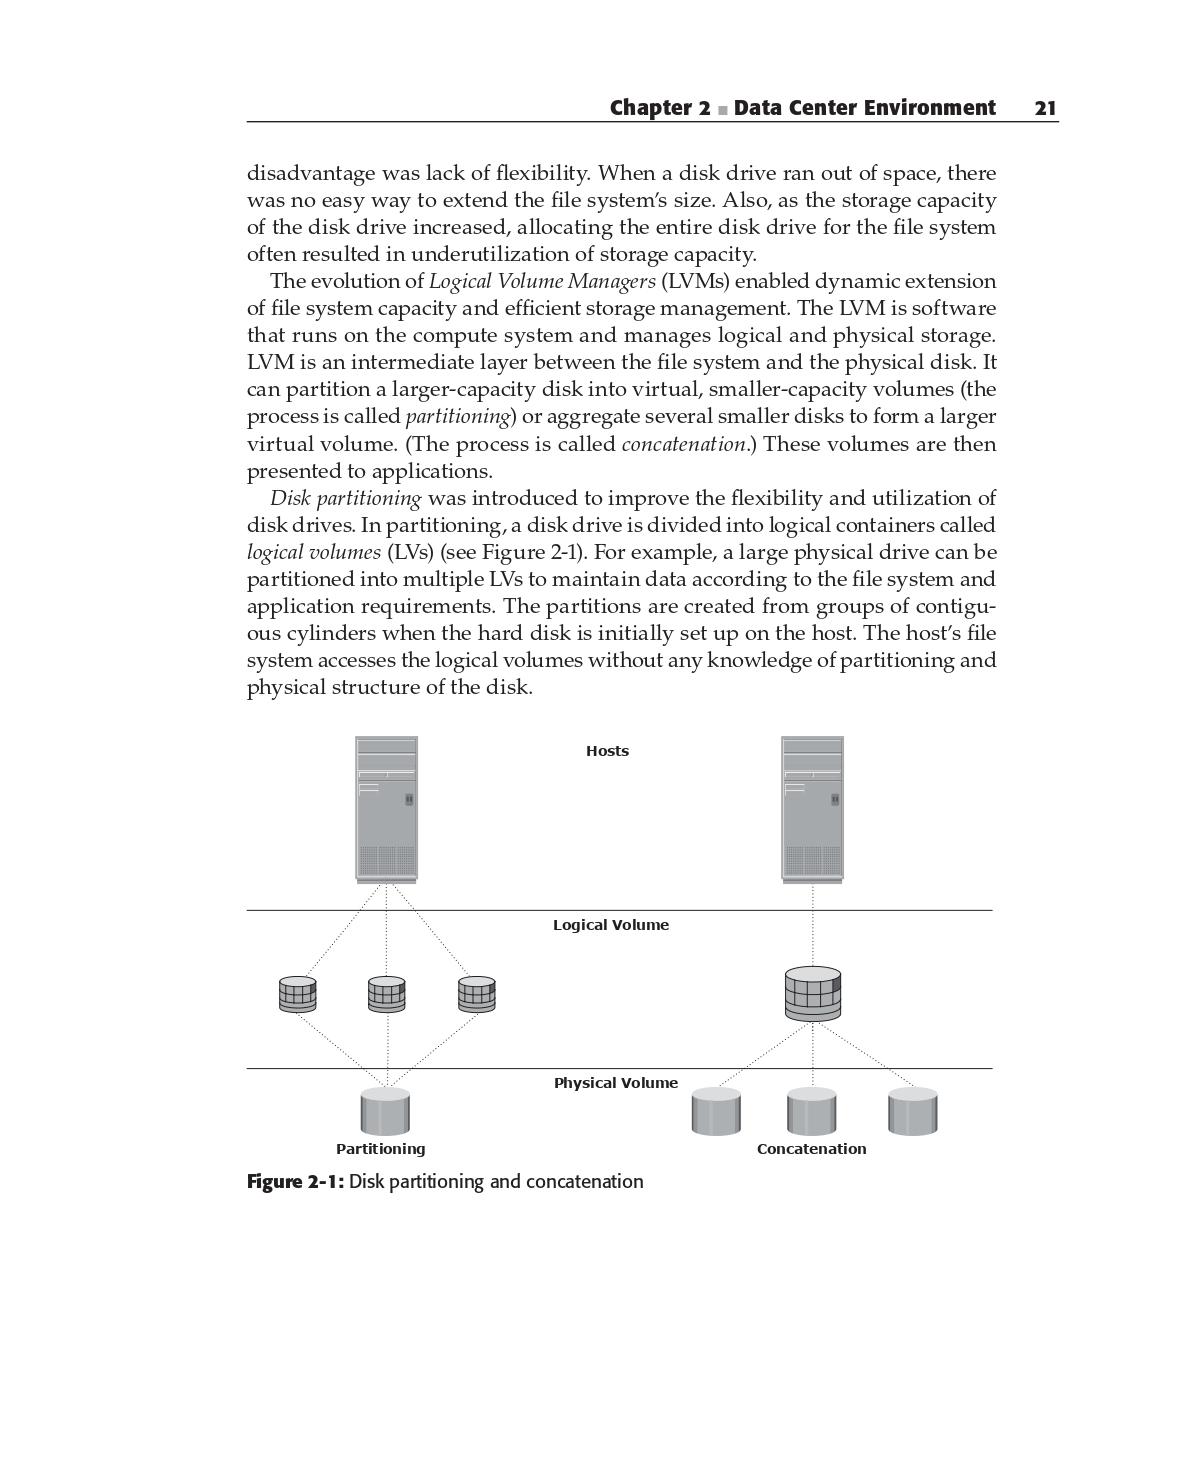Image: (222, 719, 987, 1177)
Paragraph: (236, 482, 999, 698), (236, 269, 1007, 479), (236, 143, 1005, 269), (613, 79, 1066, 126)
